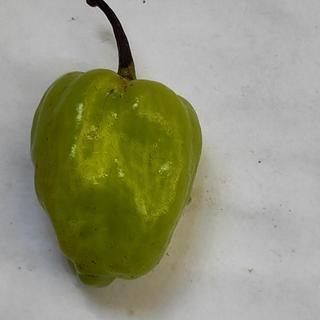Grade-A: (25, 62, 204, 288)
